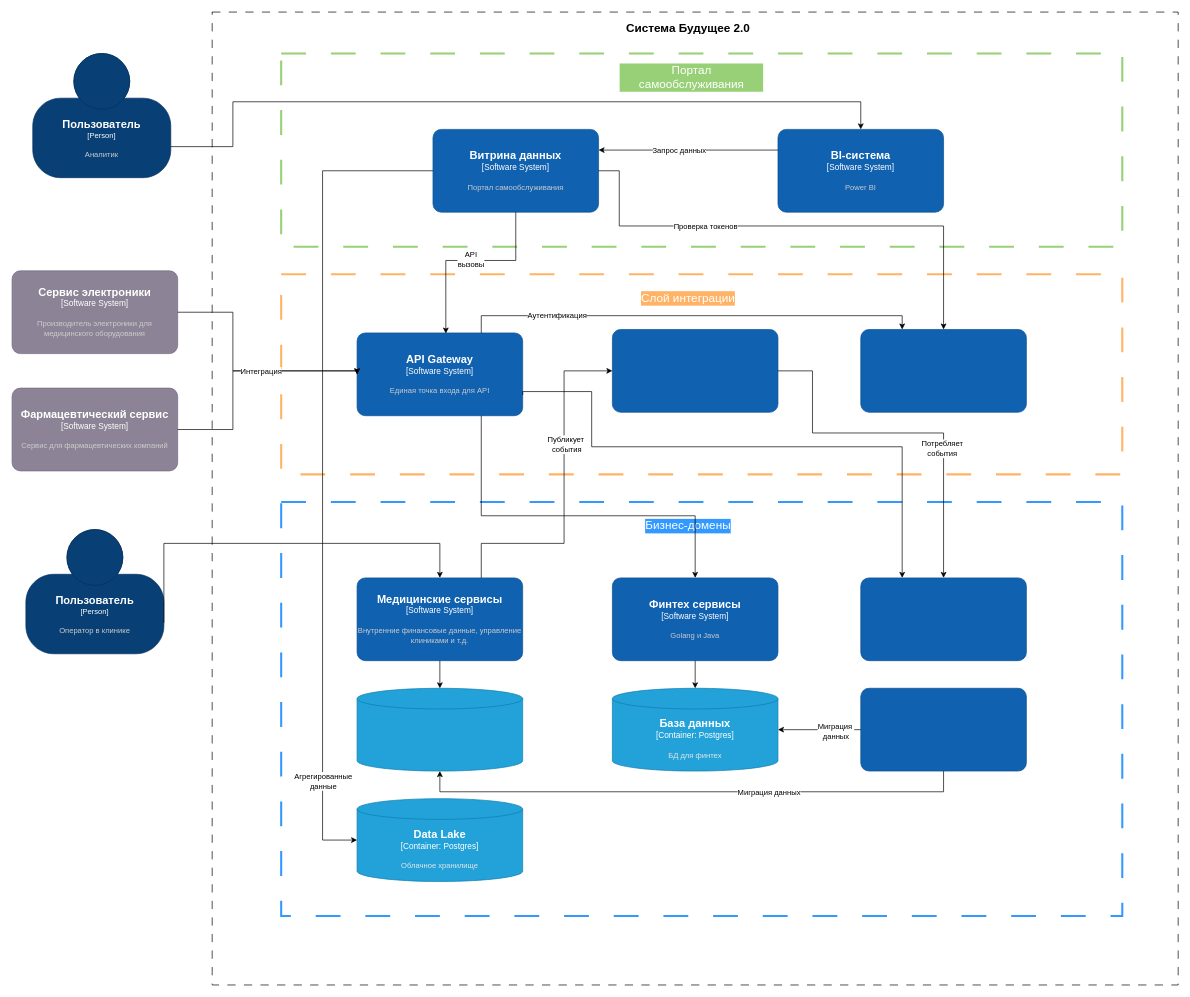
The diagram is 1190 pixels wide and 997 high, and some of its shapes have lost their labels. Here are the shapes that lost their labels. From the top down, the centre of each, then its label:
At point 695,370: "Шина событий [Software System] Apache Kafka".
At point 943,370: "Auth-сервис [Software System] Сервис аутентификации пользователей".
At point 943,619: "AI-сервисы [Software System] Python".
At point 439,729: "База данных [Container: Postgres] БД медицинского домена".
At point 943,729: "DWH [Software System] Корпоративные данные в «Будущем 2.0», на базе SQL Server".
